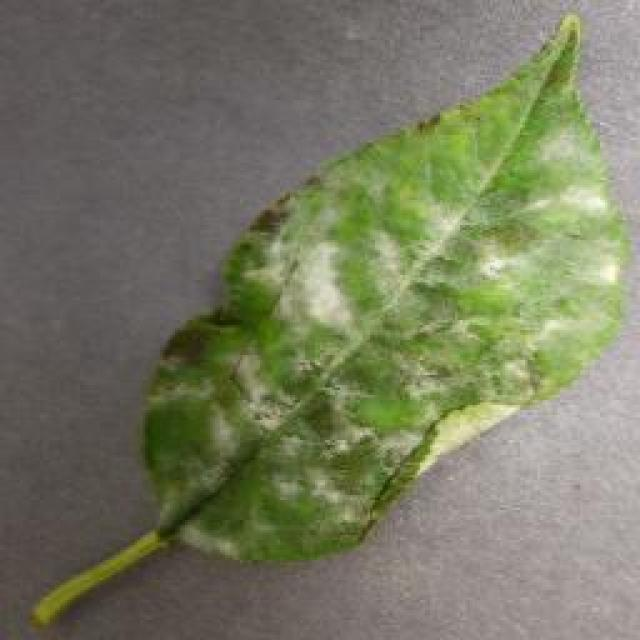Cherry___Powdery_mildew: (8, 5, 638, 640)
